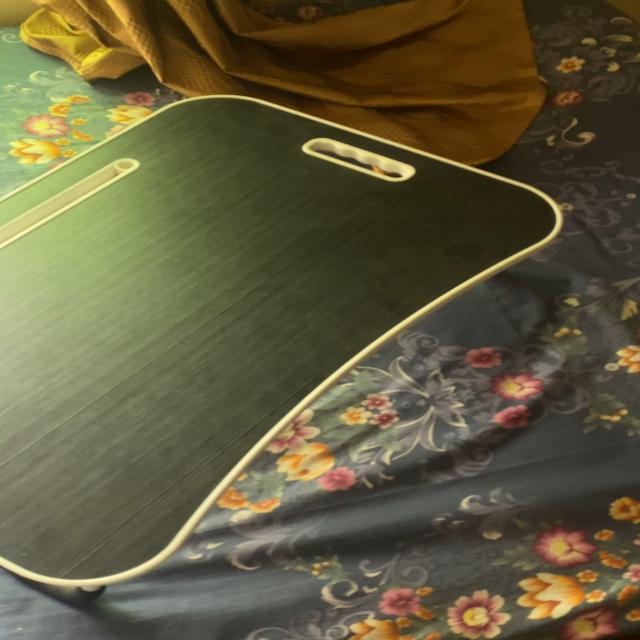table: (0, 81, 538, 616)
